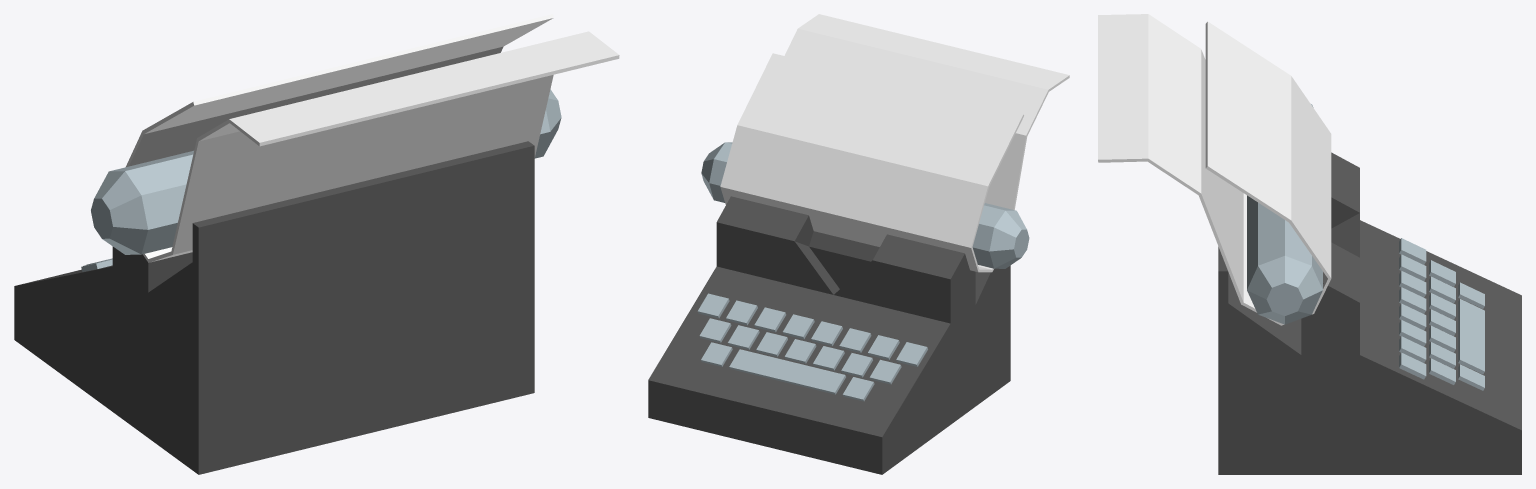
File: Typewriter.glb
3 views of the same model, side by side, from view 1: azimuth 30°, elevation 25°; view 2: azimuth 150°, elevation 25°; view 3: azimuth 270°, elevation 25° (orthographic). The views are drawn at different scales.
Visible parts, largest first — view 1: Cube.025; view 2: Cube.025; view 3: Cube.025.
Part boxes in pixels (box(x1,y1,x2,y2)): Cube.025: box(14, 14, 619, 474); Cube.025: box(648, 14, 1069, 474); Cube.025: box(1098, 14, 1521, 474).
Bounding box in the file's own units: 10.3 × 8.78 × 10.23.
